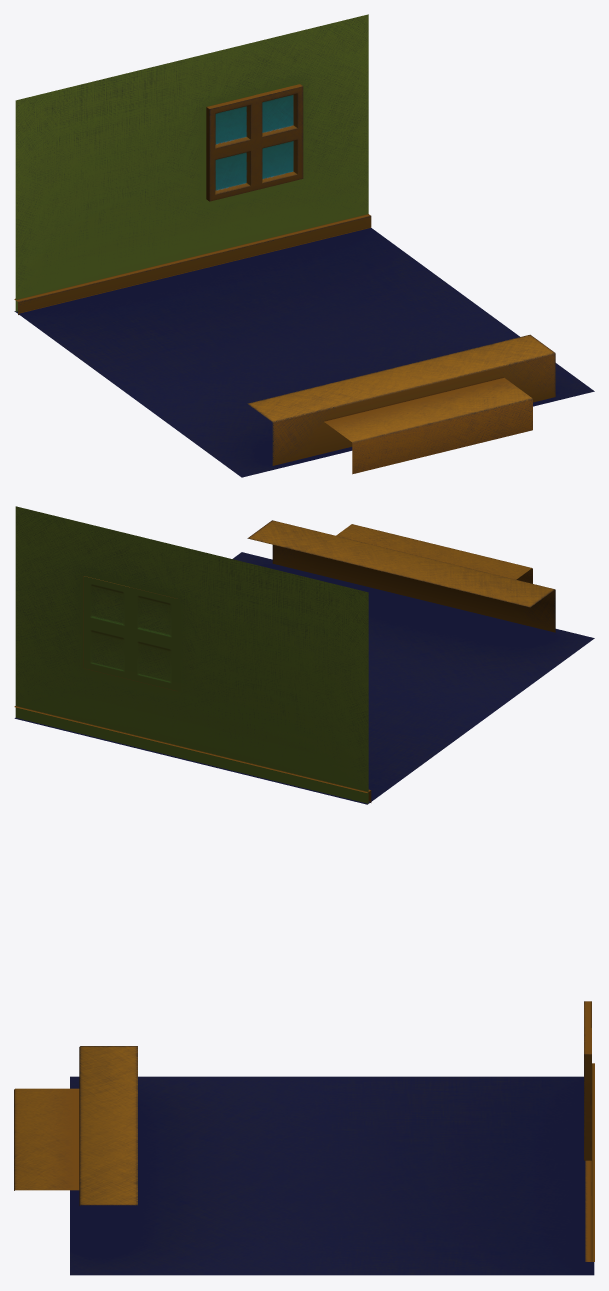
Rendered from Scenary.fbx.
3 renders of one model, top to bottom at view 1: azimuth 30°, elevation 25°; view 2: azimuth 150°, elevation 25°; view 3: azimuth 270°, elevation 25°, orthographic. The views are drawn at different scales.
Visible parts, largest first — view 1: Plane.010, Plane.005, Cube.011, Cube.008, Plane.012, Plane.011; view 2: Plane.010, Plane.005, Cube.011, Cube.008, Plane.011; view 3: Plane.005, Cube.011, Cube.008, Plane.011, Plane.012.
Part boxes in pixels (x1,y1,x2,y2): Plane.010: (15,14,368,311); Plane.005: (14,228,594,477); Cube.011: (247,334,555,465); Cube.008: (324,378,532,474); Plane.012: (206,84,303,201); Plane.011: (14,214,371,314); Plane.010: (15,506,368,803); Plane.005: (14,552,594,804); Cube.011: (247,520,555,632); Cube.008: (336,524,532,583); Plane.011: (14,706,371,802); Plane.005: (70,1076,594,1275); Cube.011: (79,1046,137,1205); Cube.008: (14,1088,79,1190); Plane.011: (585,1063,594,1261); Plane.012: (584,1001,591,1160).
Size of the model in its own units: 1400 by 806 by 1730.
